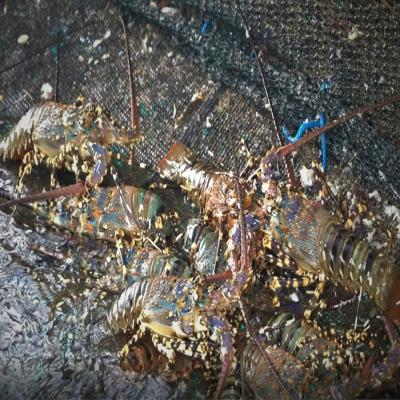lobster: (260, 172, 392, 308), (109, 275, 223, 352), (17, 100, 116, 178), (160, 150, 256, 211)
